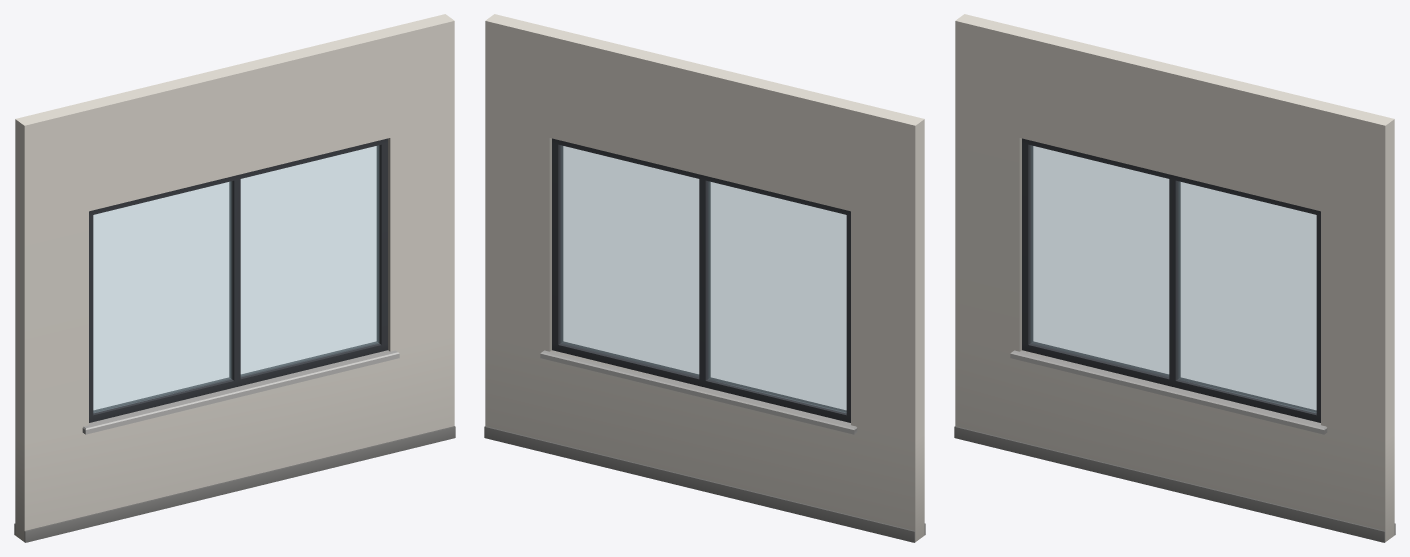
File: wall_window_01.glb
3 renders of one model, left to right at view 1: azimuth 30°, elevation 25°; view 2: azimuth 150°, elevation 25°; view 3: azimuth 330°, elevation 25°, orthographic.
Parts seen in each view (by area): view 1: wall_window_01_mesh, wall_window_01_glass; view 2: wall_window_01_mesh, wall_window_01_glass; view 3: wall_window_01_mesh, wall_window_01_glass.
Part boxes in pixels (bbox=[...]): wall_window_01_mesh: bbox=[14, 14, 455, 542]; wall_window_01_glass: bbox=[93, 145, 379, 412]; wall_window_01_mesh: bbox=[484, 14, 925, 542]; wall_window_01_glass: bbox=[560, 145, 846, 412]; wall_window_01_mesh: bbox=[954, 14, 1395, 542]; wall_window_01_glass: bbox=[1030, 145, 1316, 412].
Size of the model in its own units: 4 by 3.7 by 0.25.
2 materials, 2 textured.
